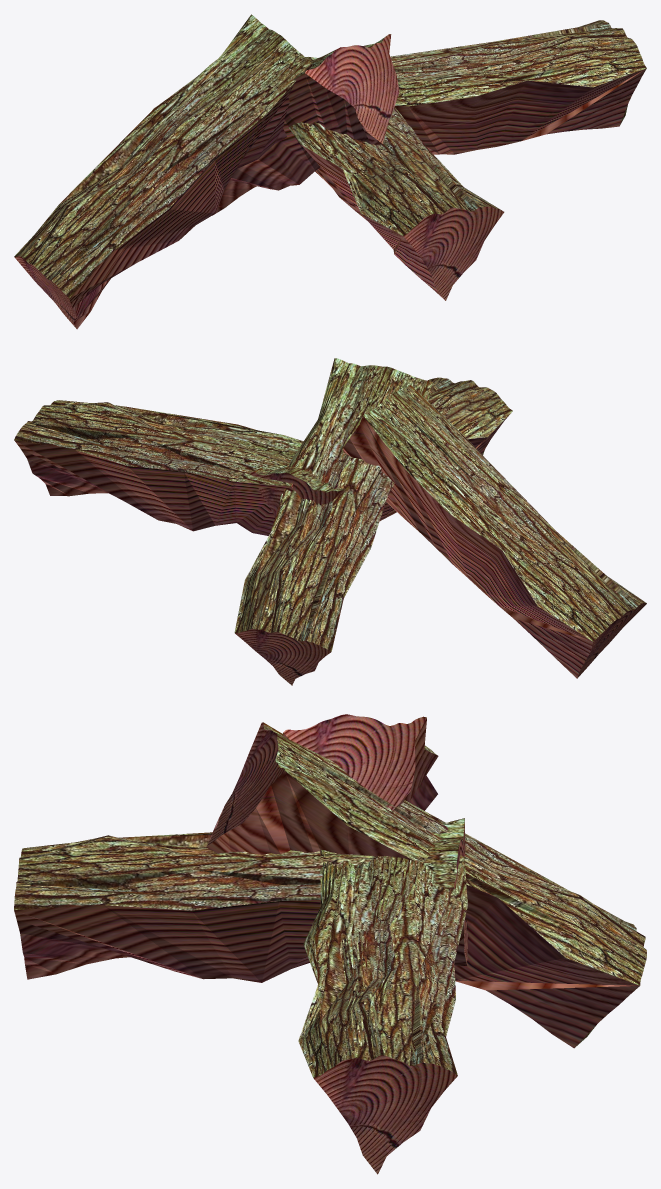
Rendered from campFire.FBX.
3 renders of one model, top to bottom at view 1: azimuth 30°, elevation 25°; view 2: azimuth 150°, elevation 25°; view 3: azimuth 270°, elevation 25°, orthographic. The views are drawn at different scales.
Parts seen in each view (by area): view 1: fireLog_A, fireLog_A003, fireLog_A002, fireLog_A001; view 2: fireLog_A, fireLog_A001, fireLog_A003, fireLog_A002; view 3: fireLog_A001, fireLog_A002, fireLog_A003, fireLog_A.
Boxes of the visible parts, x1,y1,x2,y2 form: fireLog_A: (14,14,312,329); fireLog_A003: (390,20,646,154); fireLog_A002: (289,57,504,300); fireLog_A001: (212,34,399,215); fireLog_A: (343,385,646,678); fireLog_A001: (234,358,433,685); fireLog_A003: (14,400,303,535); fireLog_A002: (250,377,512,520); fireLog_A001: (206,722,646,1048); fireLog_A002: (14,818,468,982); fireLog_A003: (298,850,467,1174); fireLog_A: (282,714,438,810).
Bounding box in the file's own units: 30.13 × 11.86 × 21.1.
